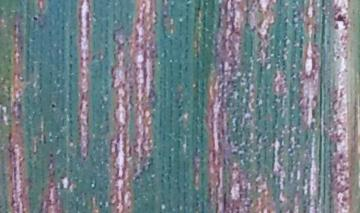tarspot: (49, 101, 59, 110), (47, 152, 56, 161), (32, 15, 40, 23)
